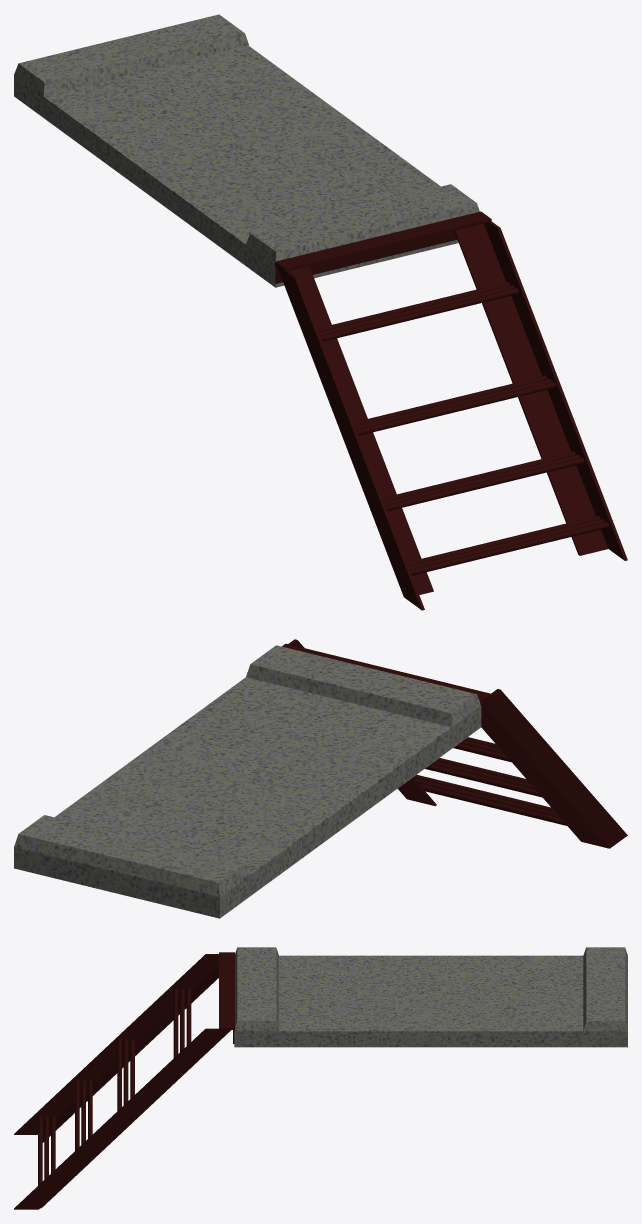
File: Balkon_Basement.fbx
The picture shows the model from 3 angles, top to bottom: view 1: azimuth 30°, elevation 25°; view 2: azimuth 150°, elevation 25°; view 3: azimuth 270°, elevation 25°; orthographic projection. The views are drawn at different scales.
Visible parts, largest first — view 1: Balkon_bottom.030, Cube.031, Cylinder.041, Cylinder.028, Cylinder.004, Cylinder.044; view 2: Balkon_bottom.030, Cube.031, Cylinder.004, Cylinder.028, Cylinder.041; view 3: Balkon_bottom.030, Cube.031, Cylinder.044, Cylinder.041, Cylinder.028, Cylinder.004.
Part boxes in pixels (left/top/right/bottom): Balkon_bottom.030: left=14, top=14, right=479, bottom=287; Cube.031: left=275, top=211, right=627, bottom=610; Cylinder.041: left=353, top=375, right=556, bottom=435; Cylinder.028: left=382, top=451, right=584, bottom=511; Cylinder.004: left=407, top=515, right=608, bottom=575; Cylinder.044: left=317, top=282, right=518, bottom=341; Balkon_bottom.030: left=14, top=645, right=481, bottom=918; Cube.031: left=282, top=639, right=627, bottom=848; Cylinder.004: left=413, top=774, right=566, bottom=825; Cylinder.028: left=425, top=758, right=542, bottom=797; Cylinder.041: left=453, top=737, right=511, bottom=762; Balkon_bottom.030: left=234, top=947, right=627, bottom=1047; Cube.031: left=14, top=952, right=235, bottom=1209; Cylinder.044: left=173, top=989, right=191, bottom=1057; Cylinder.041: left=117, top=1039, right=134, bottom=1110; Cylinder.028: left=75, top=1080, right=92, bottom=1150; Cylinder.004: left=38, top=1115, right=55, bottom=1185.
Size of the model in its own units: 100 by 116 by 343.
Materials: 3 (2 with a texture image).
